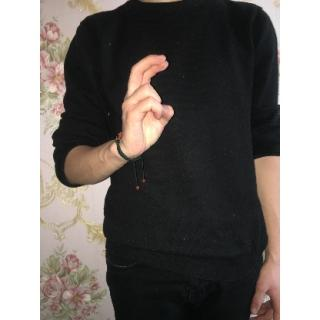ZAY: (115, 51, 183, 170)
